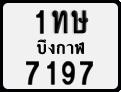letters: (70, 9, 89, 35), (51, 9, 68, 35), (24, 59, 40, 86), (60, 59, 76, 85), (78, 60, 94, 86), (46, 58, 57, 86), (35, 8, 45, 35)
province: (36, 38, 85, 55)
